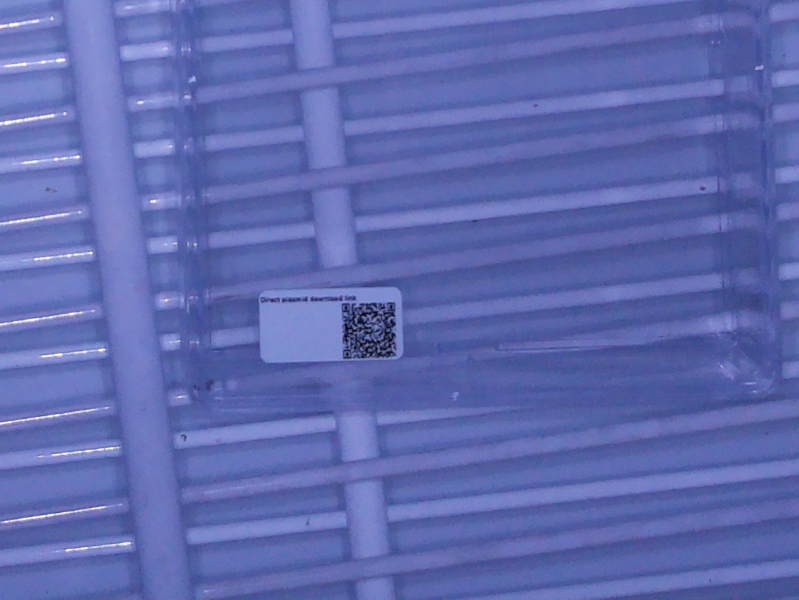plate: (169, 1, 782, 414)
